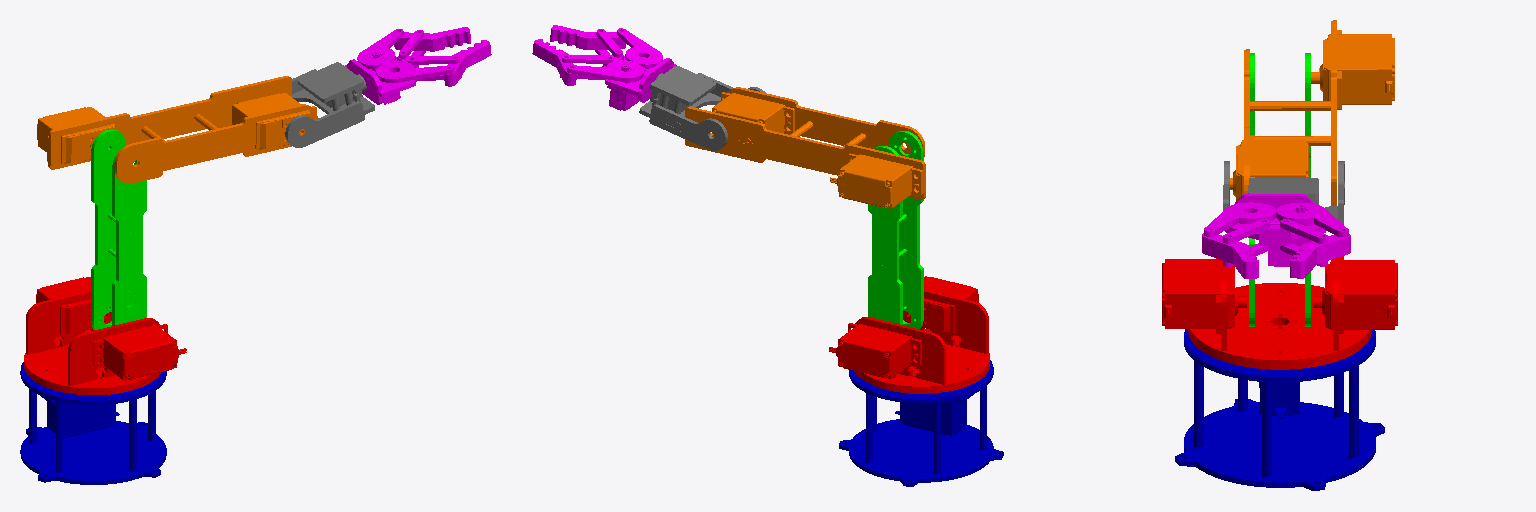
URDF robot description (arm1):
<?xml version="1.0"?>
<robot name="arm1">

  <material name="blue">
    <color rgba="0 0 0.8 1"/>
  </material>
  <material name="white">
    <color rgba="1 1 1 1"/>
  </material>
  <material name="red">
    <color rgba="1 0 0 1"/>
</material>
<material name="green">
    <color rgba="0 1 0 1"/>
</material>
<material name="yellow">
    <color rgba="1 1 0 1"/>
</material>
<material name="cyan">
    <color rgba="0 1 1 1"/>
</material>
<material name="magenta">
    <color rgba="1 0 1 1"/>
</material>
<material name="orange">
    <color rgba="1 0.5 0 1"/>
</material>
<material name="purple">
    <color rgba="0.5 0 0.5 1"/>
</material>
<material name="gray">
    <color rgba="0.5 0.5 0.5 1"/>
</material>
<material name="light_blue">
    <color rgba="0.678 0.847 0.902 1"/>
</material>
<material name="dark_green">
    <color rgba="0 0.5 0 1"/>
</material>

  <link name="world"/>

  <link name="part1">
    <visual>
      <geometry>
        <mesh filename="package://siro_arm/meshes/visual/Ensamble_1.stl"/>
      </geometry>
      <material name="blue"/>
    </visual> 
    <collision>
      <geometry>
        <mesh filename="package://siro_arm/meshes/collision/Ensamble_1.dae"/>
      </geometry>
    </collision>
  </link>

  <joint name="fixed_joint" type="fixed">
    <parent link="world"/>
    <child link="part1"/>
    <origin xyz="0 0 0" rpy="0 0 0"/>
  </joint>

  <link name="part2">
    <visual>
      <geometry>
        <mesh filename="package://siro_arm/meshes/visual/Ensamble_2.stl"/>
      </geometry>
      <material name="red"/> 
    </visual> 
    <collision>
      <geometry>
        <mesh filename="package://siro_arm/meshes/collision/Ensamble_2.dae"/>
      </geometry>
    </collision>
  </link>

  <joint name="joint_1" type="revolute">
    <parent link="part1"/>
    <child link="part2"/>
    <origin xyz="0 0 0.6367" rpy="0 0 0"/>
    <axis xyz="0 0 1"/>
    <limit lower="-1.57" upper="1.57" effort="10" velocity="1.0"/>
  </joint>

<link name="part3">
    <visual>
      <geometry>
        <mesh filename="package://siro_arm/meshes/visual/Ensamble_3.stl"/>
      </geometry>
      <material name="green"/> 
    </visual> 
    <collision>
      <geometry>
        <mesh filename="package://siro_arm/meshes/collision/Ensamble_3.dae"/>
      </geometry>
    </collision>
  </link>

  <joint name="joint_2" type="revolute">
    <parent link="part2"/>
    <child link="part3"/>
    <origin xyz="0.194649 0.152205 0.247295" rpy="0 0 0"/>
    <axis xyz="0 1 0"/>
    <limit lower="-1.57" upper="1.57" effort="10" velocity="1.0"/>
  </joint>

<link name="part4">
    <visual>
      <geometry>
        <mesh filename="package://siro_arm/meshes/visual/Ensamble_4.stl"/>
      </geometry>
      <material name="orange"/> 
    </visual> 
    <collision>
      <geometry>
        <mesh filename="package://siro_arm/meshes/collision/Ensamble_4.dae"/>
      </geometry>
    </collision>
  </link>

  <joint name="joint_3" type="revolute">
    <parent link="part3"/>
    <child link="part4"/>
    <origin xyz="0 0 1.23" rpy="0 0 0"/>
    <axis xyz="0 1 0"/>
    <limit lower="-1.57" upper="1.57" effort="10" velocity="1.0"/>
  </joint>

<link name="part5">
    <visual>
      <geometry>
        <mesh filename="package://siro_arm/meshes/visual/Ensamble_5.stl"/>
      </geometry>
      <material name="gray"/> 
    </visual> 
    <collision>
      <geometry>
        <mesh filename="package://siro_arm/meshes/collision/Ensamble_5.dae"/>
      </geometry>
    </collision>
  </link>

  <joint name="joint_4" type="revolute">
    <parent link="part4"/>
    <child link="part5"/>
    <origin xyz="1.2196 -0.401701 -0.009168" rpy="0 0 0"/>
    <axis xyz="0 1 0"/>
    <limit lower="-1.57" upper="1.57" effort="10" velocity="1.0"/>
  </joint>

  <link name="part6">
    <visual>
      <geometry>
        <mesh filename="package://siro_arm/meshes/visual/Ensamble_6.stl"/>
      </geometry>
      <material name="magenta"/> 
    </visual> 
    <collision>
      <geometry>
        <mesh filename="package://siro_arm/meshes/collision/Ensamble_6.dae"/>
      </geometry>
    </collision>
  </link>

  <joint name="joint_5" type="revolute">
    <parent link="part5"/>
    <child link="part6"/>
    <origin xyz="0.606218 0.228952 0.118208" rpy="0 -0.10853 0"/>
    <axis xyz="1 0 0"/>
    <limit lower="-1.57" upper="1.57" effort="10" velocity="1.0"/>
  </joint>

</robot>

--- Facts derived from the render (not from the file) ---
The picture shows the robot from 3 angles, left to right: view 1: azimuth 30°, elevation 25°; view 2: azimuth 150°, elevation 25°; view 3: azimuth 270°, elevation 25°; orthographic projection.
Robot: arm1 — 7 links, 6 joints (5 revolute, 1 fixed); root link world; default pose: every joint at zero.
Links seen in each view (by area): view 1: part4, part2, part1, part3, part6, part5; view 2: part4, part2, part1, part3, part6, part5; view 3: part2, part1, part4, part6, part5, part3.
Boxes of the visible links, box(x1,y1,x2,y2) form: part4: box(37, 76, 317, 183); part2: box(24, 277, 186, 394); part1: box(20, 362, 166, 484); part3: box(91, 129, 146, 329); part6: box(345, 27, 491, 104); part5: box(285, 62, 374, 147); part4: box(685, 87, 925, 208); part2: box(829, 276, 989, 393); part1: box(839, 360, 1003, 486); part3: box(868, 131, 923, 328); part6: box(532, 25, 676, 110); part5: box(639, 66, 765, 150); part2: box(1162, 256, 1397, 369); part1: box(1175, 329, 1384, 490); part4: box(1230, 20, 1394, 205); part6: box(1202, 194, 1350, 278); part5: box(1223, 161, 1344, 224); part3: box(1249, 53, 1310, 326).
Size in the robot's own frame: 3.43 by 1.17 by 2.37 metres.
6 mesh visuals loaded from 6 distinct referenced files (6 binary STL).
